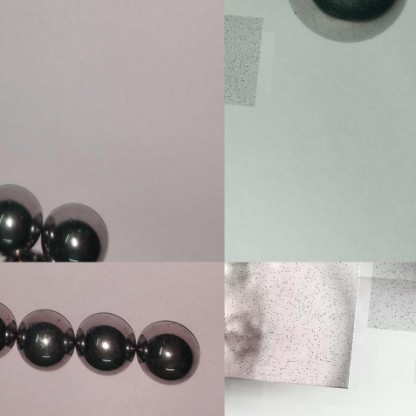ironball: (224, 262, 365, 384), (282, 0, 405, 45), (36, 197, 109, 266), (136, 315, 202, 386), (73, 312, 136, 374), (19, 303, 75, 372), (0, 179, 38, 259), (0, 298, 21, 361)
